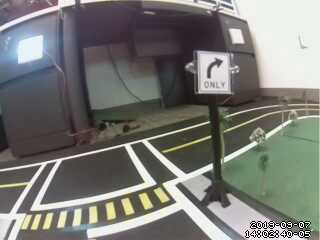Right_only_sign: (187, 45, 231, 97)
